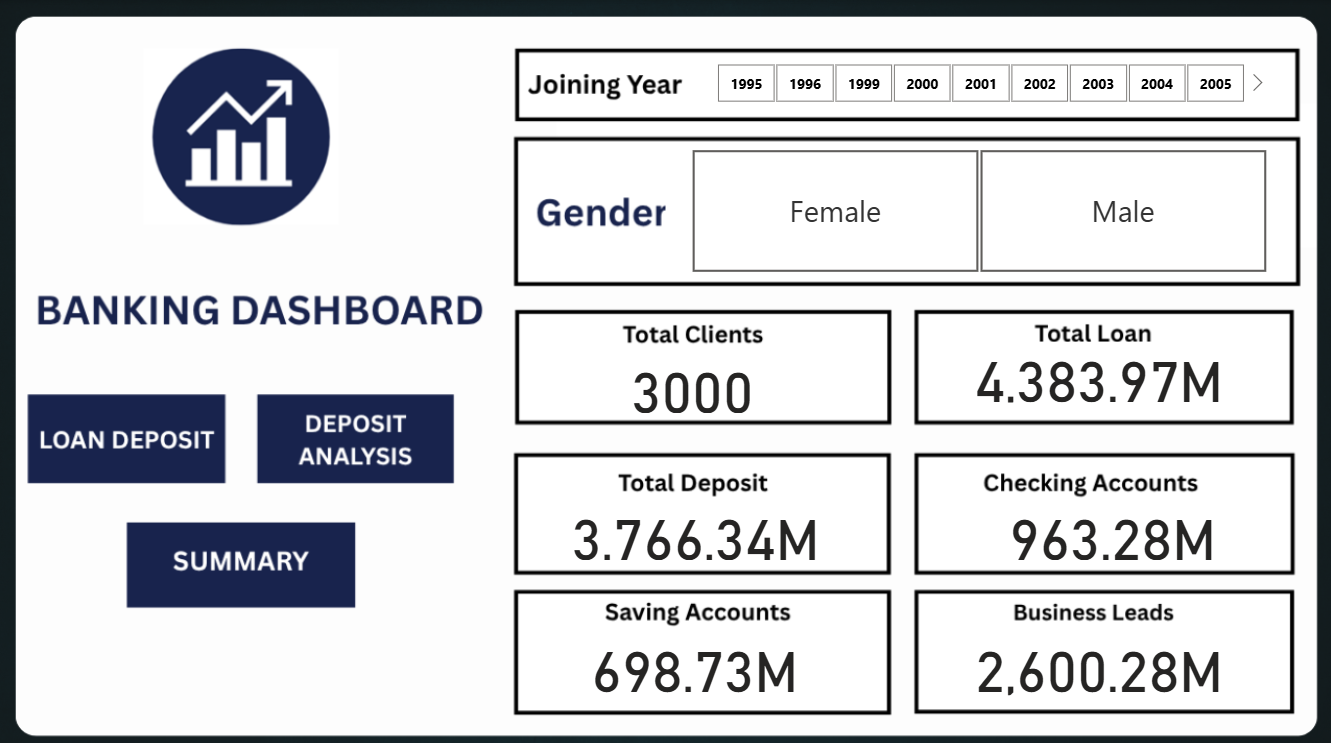

What the dashboard file says about the page in this screenshot:
{"tool":"powerbi","page":{"name":"Home","canvas":[1280,720],"ordinal":1},"visuals":[{"type":"slicer","fields":{"Values":["Banking_Clients.GenderId"]},"box":[661.7,154.4,586,118.1],"z":0},{"type":"card","fields":{"Values":["CountNonNull(Banking_Clients.IAId)"]},"box":[564.8,342.2,184.7,62.1],"z":1000},{"type":"card","fields":{"Values":["Sum(Banking_Clients.Business Lending)"]},"box":[955.5,637.5,209,57.5],"z":2000},{"type":"card","fields":{"Values":["Sum(Banking_Clients.Checking Accounts)"]},"box":[893.4,484.5,271,63.6],"z":3000},{"type":"card","fields":{"Values":["Banking_Clients.Total loan"]},"box":[908.5,343.7,255.9,62.1],"z":4000},{"type":"card","fields":{"Values":["Banking_Clients.Total Deposit"]},"box":[519.4,495.1,242.3,53],"z":5000},{"type":"slicer","fields":{"Values":["Banking_Clients.Joined Bank.Variation.Date Hierarchy.Year"]},"box":[667.8,60.6,579.9,51.5],"z":6000},{"type":"card","fields":{"Values":["Sum(Banking_Clients.Saving Accounts)"]},"box":[564.8,625.4,184.7,69.7],"z":7000},{"type":"actionButton","box":[41.7,444.4,191.3,44.6],"z":8000},{"type":"actionButton","box":[279,434.3,145.2,71.9],"z":9000},{"type":"actionButton","box":[153.9,568.1,156.8,43.1],"z":10000}]}

Visuals, with their boxes in screenshot pixels (x1, y1, x2, y2), scaled from the page's 1280x720 canvas onto the 1331x743 screenshot:
slicer - Banking_Clients.GenderId: [688, 159, 1297, 281]
card - CountNonNull(Banking_Clients.IAId): [587, 353, 779, 417]
card - Sum(Banking_Clients.Business Lending): [994, 658, 1211, 717]
card - Sum(Banking_Clients.Checking Accounts): [929, 500, 1211, 566]
card - Banking_Clients.Total loan: [945, 355, 1211, 419]
card - Banking_Clients.Total Deposit: [540, 511, 792, 566]
slicer - Banking_Clients.Joined Bank.Variation.Date Hierarchy.Year: [694, 63, 1297, 116]
card - Sum(Banking_Clients.Saving Accounts): [587, 645, 779, 717]
actionButton: [43, 459, 242, 505]
actionButton: [290, 448, 441, 522]
actionButton: [160, 586, 323, 631]
